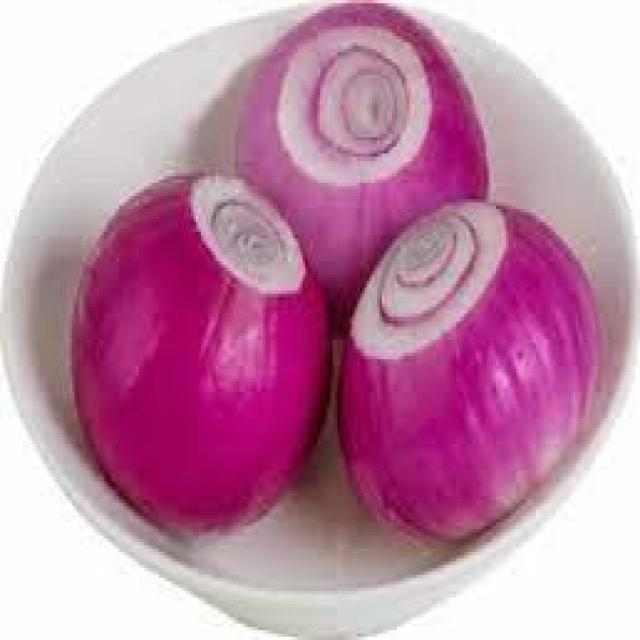Onion: (326, 201, 632, 563), (72, 177, 340, 546), (251, 2, 504, 312)
